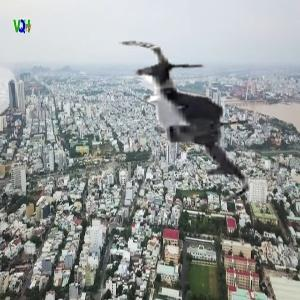drone: (102, 27, 286, 211)
